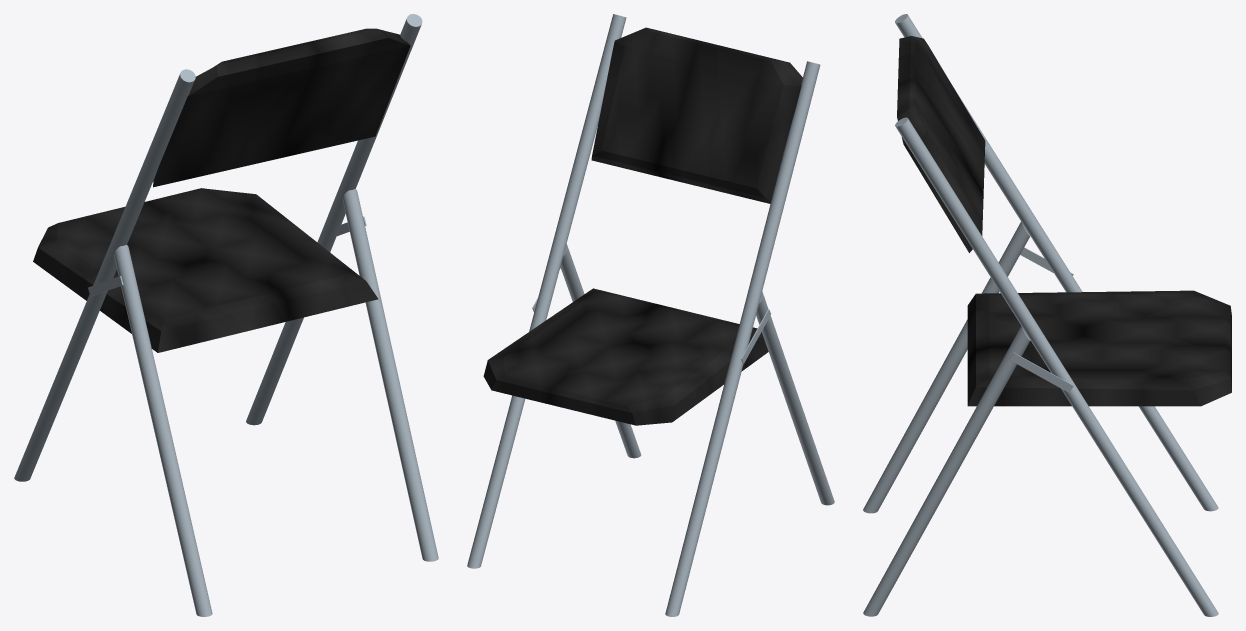
Rendered from silla_metalica.fbx.
3 views of the same model, side by side, from view 1: azimuth 30°, elevation 25°; view 2: azimuth 150°, elevation 25°; view 3: azimuth 270°, elevation 25° (orthographic). The views are drawn at different scales.
Parts seen in each view (by area): view 1: Silla; view 2: Silla; view 3: Silla.
Boxes of the visible parts, box(x1,y1,x2,y2) form: Silla: box(14, 14, 438, 616); Silla: box(467, 14, 834, 616); Silla: box(863, 14, 1231, 616).
Bounding box in the file's own units: 174 × 357 × 241.
2 materials, 1 textured.
